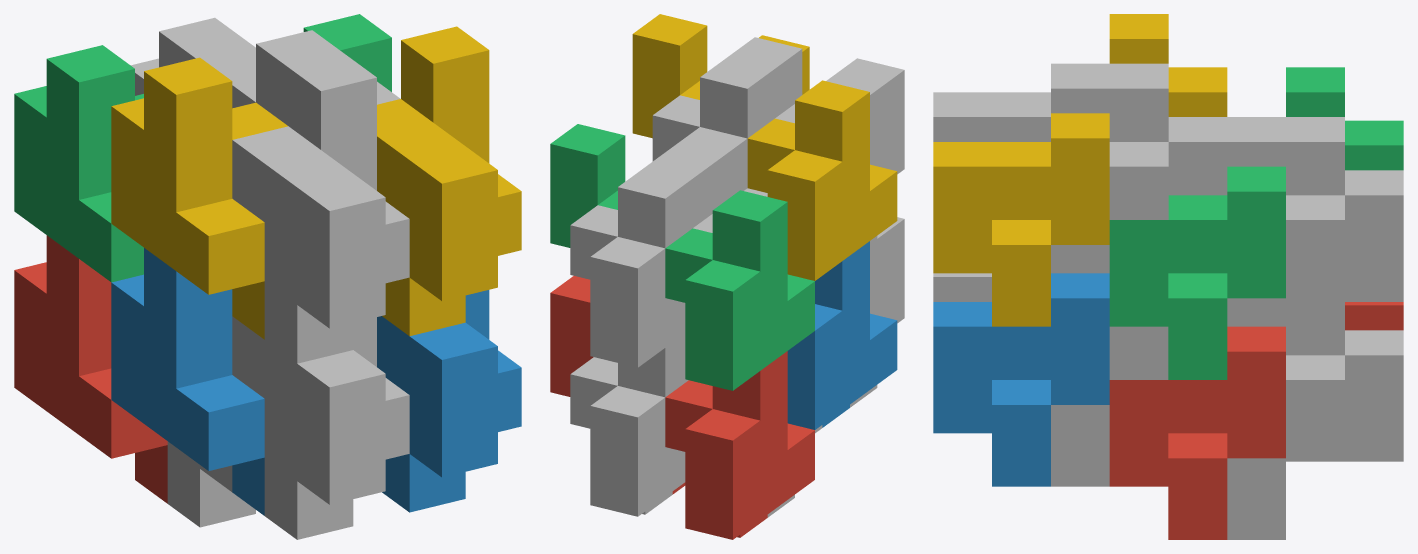
Rendered from tiling.obj.
3 views of the same model, side by side, from view 1: azimuth 30°, elevation 25°; view 2: azimuth 150°, elevation 25°; view 3: azimuth 270°, elevation 25° (orthographic). The views are drawn at different scales.
Visible parts, largest first — view 1: copy_2_domain_4, copy_2_domain_8, copy_1_domain_4, copy_2_domain_2, copy_1_domain_2, copy_1_domain_3, copy_2_domain_6, copy_1_domain_1, copy_1_domain_8, copy_2_domain_1, copy_2_domain_7, copy_1_domain_7 (+1 smaller); view 2: copy_1_domain_3, copy_1_domain_4, copy_1_domain_1, copy_1_domain_7, copy_1_domain_5, copy_1_domain_2, copy_1_domain_8, copy_2_domain_4, copy_2_domain_8, copy_2_domain_7, copy_2_domain_5, copy_2_domain_2 (+1 smaller); view 3: copy_2_domain_8, copy_2_domain_7, copy_2_domain_6, copy_2_domain_5, copy_1_domain_5, copy_1_domain_7, copy_1_domain_8, copy_2_domain_4, copy_1_domain_6, copy_1_domain_4, copy_1_domain_3, copy_2_domain_3 (+2 smaller).
Part boxes in pixels (x1,y1,x2,y2): copy_2_domain_4: [232, 54, 409, 363]; copy_2_domain_8: [377, 26, 521, 336]; copy_1_domain_4: [111, 57, 287, 339]; copy_2_domain_2: [232, 316, 409, 539]; copy_1_domain_2: [111, 248, 264, 515]; copy_1_domain_3: [14, 45, 143, 282]; copy_2_domain_6: [377, 290, 521, 512]; copy_1_domain_1: [14, 235, 167, 503]; copy_1_domain_8: [228, 30, 400, 125]; copy_2_domain_1: [167, 441, 255, 527]; copy_2_domain_7: [303, 14, 391, 91]; copy_1_domain_7: [131, 17, 246, 95]; copy_1_domain_3: [665, 190, 814, 390]; copy_1_domain_4: [747, 80, 897, 280]; copy_1_domain_1: [665, 351, 814, 539]; copy_1_domain_7: [570, 167, 692, 367]; copy_1_domain_5: [570, 333, 688, 516]; copy_1_domain_2: [787, 241, 897, 429]; copy_1_domain_8: [652, 57, 774, 204]; copy_2_domain_4: [728, 37, 904, 243]; copy_2_domain_8: [632, 14, 809, 138]; copy_2_domain_7: [550, 124, 625, 247]; copy_2_domain_5: [550, 276, 685, 494]; copy_2_domain_2: [850, 217, 904, 407]; copy_2_domain_8: [933, 113, 1109, 326]; copy_2_domain_7: [1109, 166, 1285, 379]; copy_2_domain_6: [933, 273, 1109, 486]; copy_2_domain_5: [1109, 326, 1285, 539]; copy_1_domain_5: [1227, 302, 1403, 539]; copy_1_domain_7: [1227, 117, 1403, 326]; copy_1_domain_8: [1051, 63, 1227, 273]; copy_2_domain_4: [933, 63, 1109, 141]; copy_1_domain_6: [1051, 326, 1168, 486]; copy_1_domain_4: [1109, 14, 1227, 116]; copy_1_domain_3: [1286, 67, 1403, 170]; copy_2_domain_3: [1227, 117, 1285, 166].
Bounding box in the file's own units: 5 × 8 × 8.
